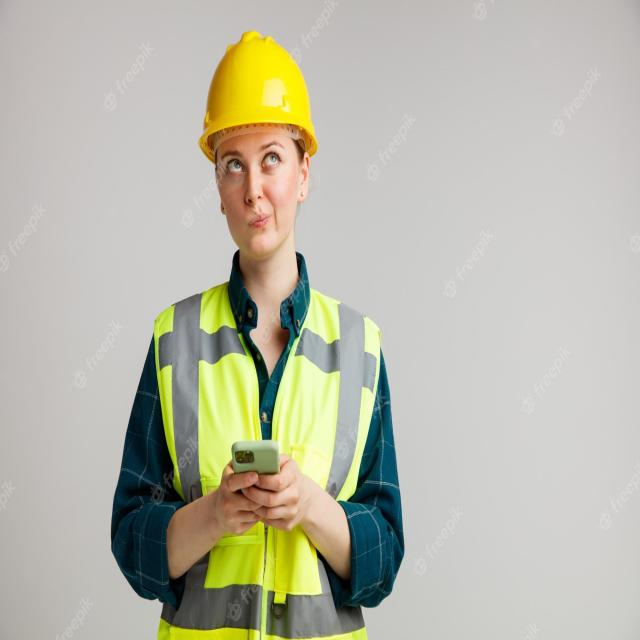helmet: (175, 29, 324, 155)
no-goggles: (205, 140, 317, 190)
vest: (135, 284, 400, 640)
